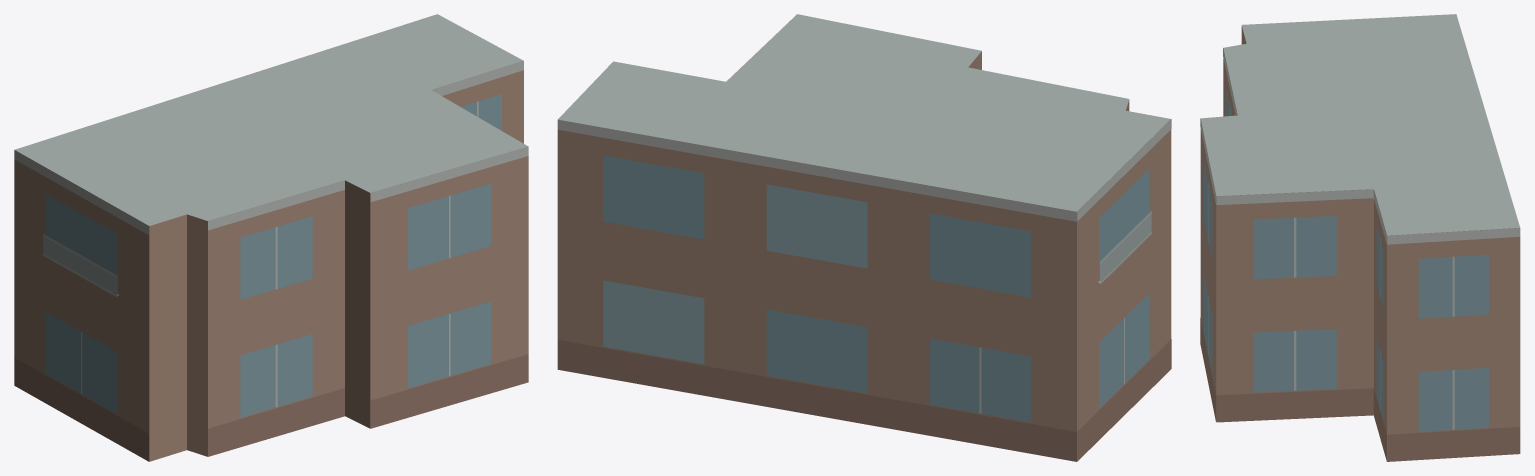
Rendered from survey-upis-32559335.glb.
3 renders of one model, left to right at view 1: azimuth 30°, elevation 25°; view 2: azimuth 150°, elevation 25°; view 3: azimuth 270°, elevation 25°, orthographic. The views are drawn at different scales.
Visible parts, largest first — view 1: survey-upis-32559335.tmp; view 2: survey-upis-32559335.tmp; view 3: survey-upis-32559335.tmp.
Boxes of the visible parts, <box> form: survey-upis-32559335.tmp: <box>14,14,528,461</box>; survey-upis-32559335.tmp: <box>557,14,1171,461</box>; survey-upis-32559335.tmp: <box>1200,14,1520,461</box>.
Size of the model in its own units: 12.83 by 6.1 by 7.82.
